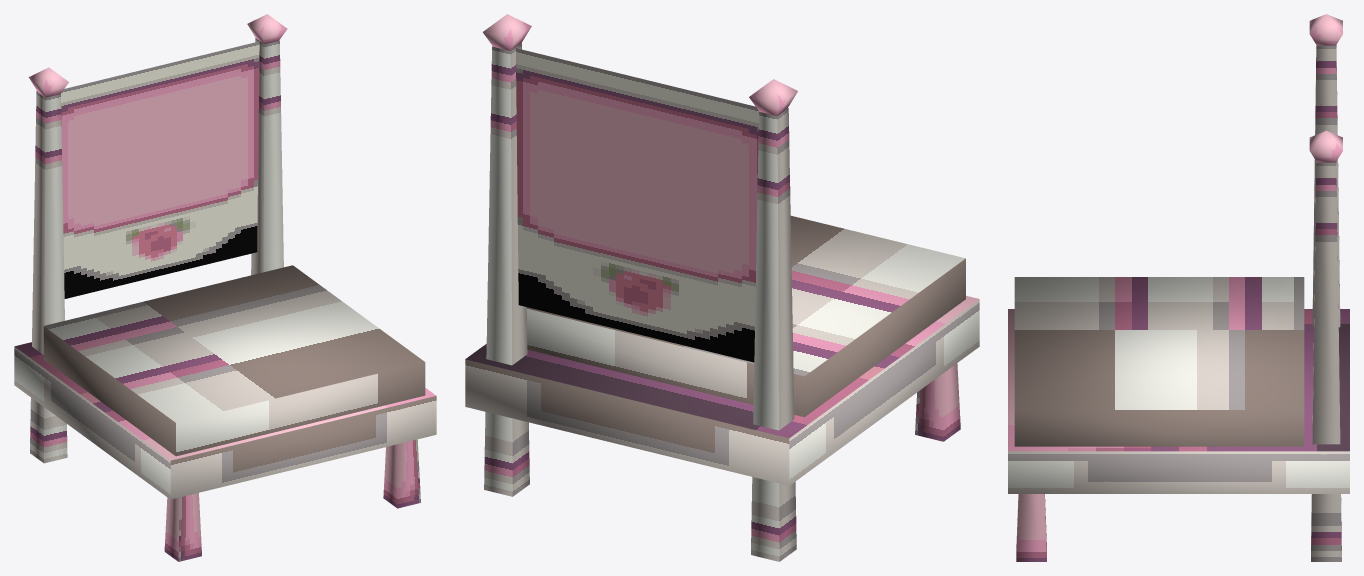
3 renders of one model, left to right at view 1: azimuth 30°, elevation 25°; view 2: azimuth 150°, elevation 25°; view 3: azimuth 270°, elevation 25°, orthographic. The views are drawn at different scales.
Visible parts, largest first — view 1: 3075IMRL05_03; view 2: 3075IMRL05_03; view 3: 3075IMRL05_03.
Boxes of the visible parts, <box> form: 3075IMRL05_03: <box>14,14,436,561</box>; 3075IMRL05_03: <box>465,14,979,561</box>; 3075IMRL05_03: <box>1008,14,1349,561</box>.
Size of the model in its own units: 0.8711 by 1.21 by 0.886.
2 materials, 2 textured.
